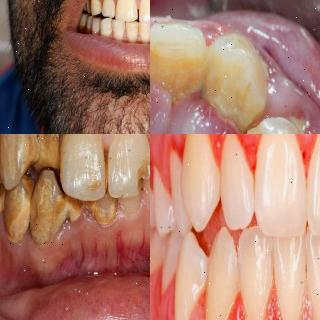Gum Swelling: (0, 196, 150, 268), (150, 83, 243, 134), (267, 56, 303, 116)
calculus: (207, 23, 265, 126), (150, 26, 204, 109), (30, 181, 63, 239), (4, 182, 32, 242), (0, 134, 30, 179), (33, 134, 66, 170), (87, 192, 113, 228), (66, 186, 85, 228), (0, 188, 6, 228)
maligned: (179, 134, 217, 230), (173, 233, 209, 320), (30, 164, 62, 247), (30, 134, 64, 178)
plaque: (135, 26, 143, 36), (148, 26, 150, 40)
stains: (100, 142, 115, 192)
